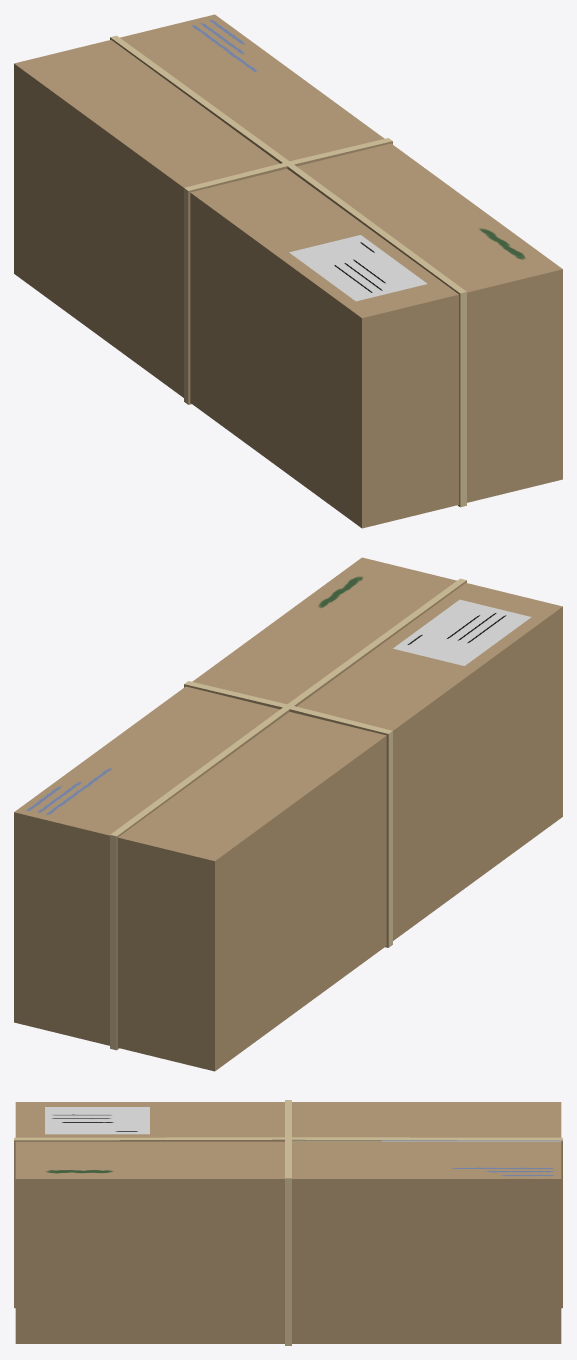
File: cardboard_box3.fbx
3 renders of one model, top to bottom at view 1: azimuth 30°, elevation 25°; view 2: azimuth 150°, elevation 25°; view 3: azimuth 270°, elevation 25°, orthographic. The views are drawn at different scales.
Parts seen in each view (by area): view 1: Cardboard Box; view 2: Cardboard Box; view 3: Cardboard Box.
Boxes of the visible parts, box(x1,y1,x2,y2) form: Cardboard Box: box(14, 14, 562, 528); Cardboard Box: box(14, 557, 562, 1071); Cardboard Box: box(14, 1100, 562, 1345).
Bounding box in the file's own units: 102 × 102 × 302.
1 material, 1 textured.
